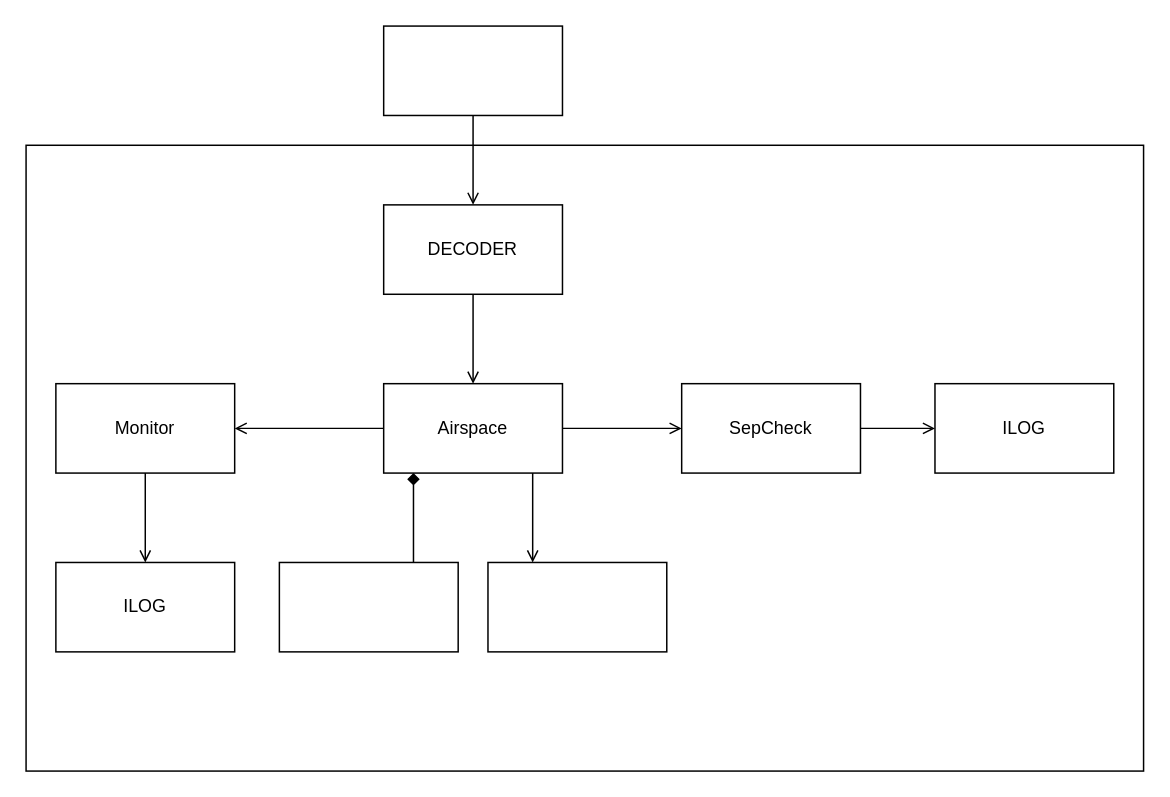
The diagram is 1170 pixels wide and 797 high, and some of its shapes have lost their labels. The centre of each missing label's shape, as x and y in pixels:
"Track" belongs at (368,606).
"TransponderReciver" belongs at (472,70).
"Validate" belongs at (576,606).
